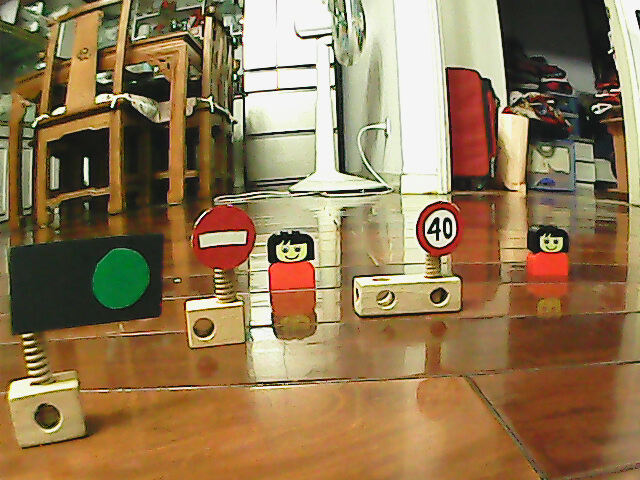Green Traffic Light: (86, 240, 157, 316)
Person: (264, 228, 318, 293), (524, 222, 571, 279)
Speed Limit 40: (414, 199, 465, 257)
Stop Sign: (189, 203, 258, 272)
